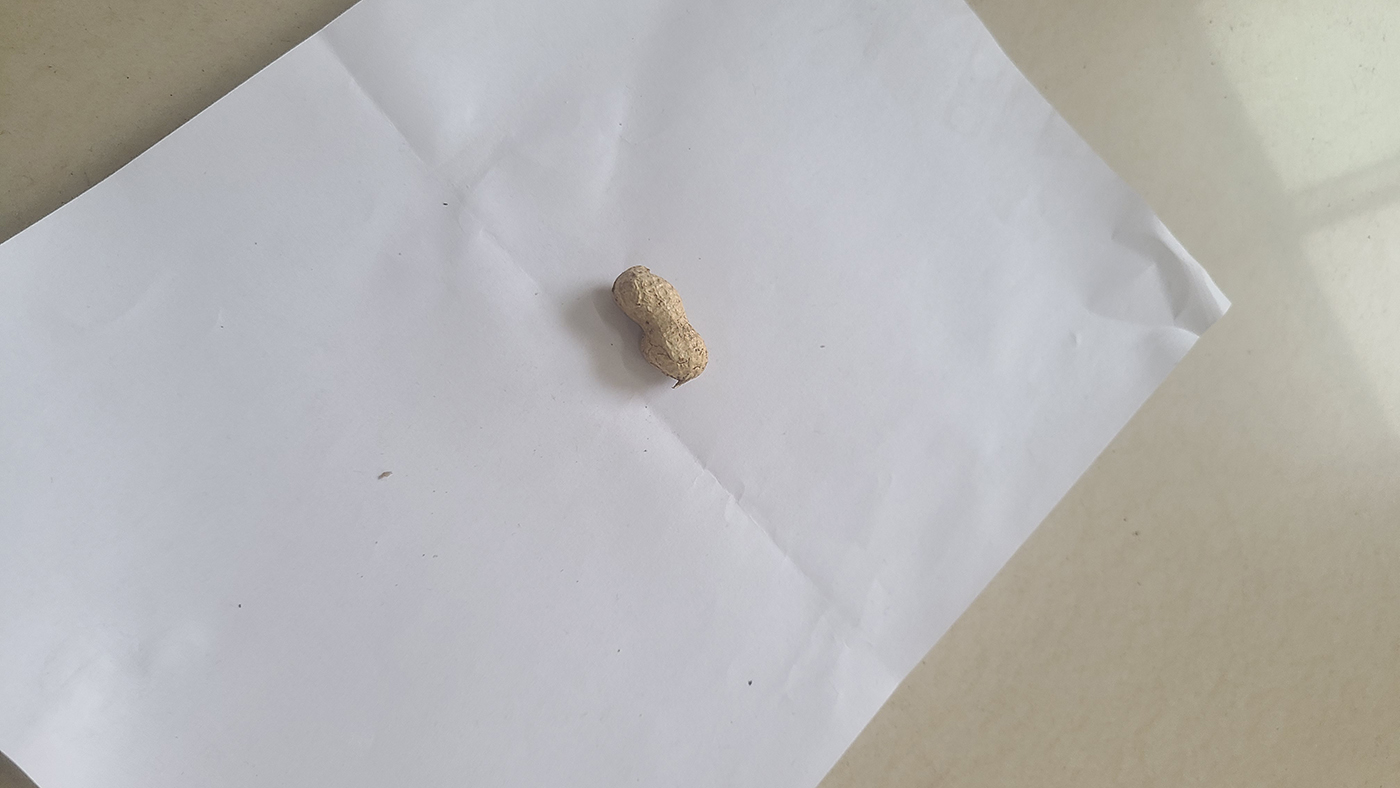h: (612, 264, 710, 381)
